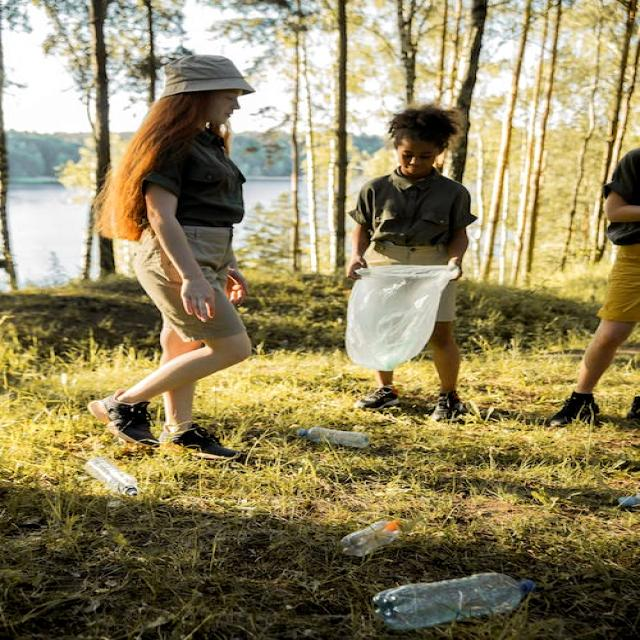plastic: (370, 571, 538, 631), (334, 516, 406, 558), (78, 454, 143, 498), (289, 424, 372, 452)
